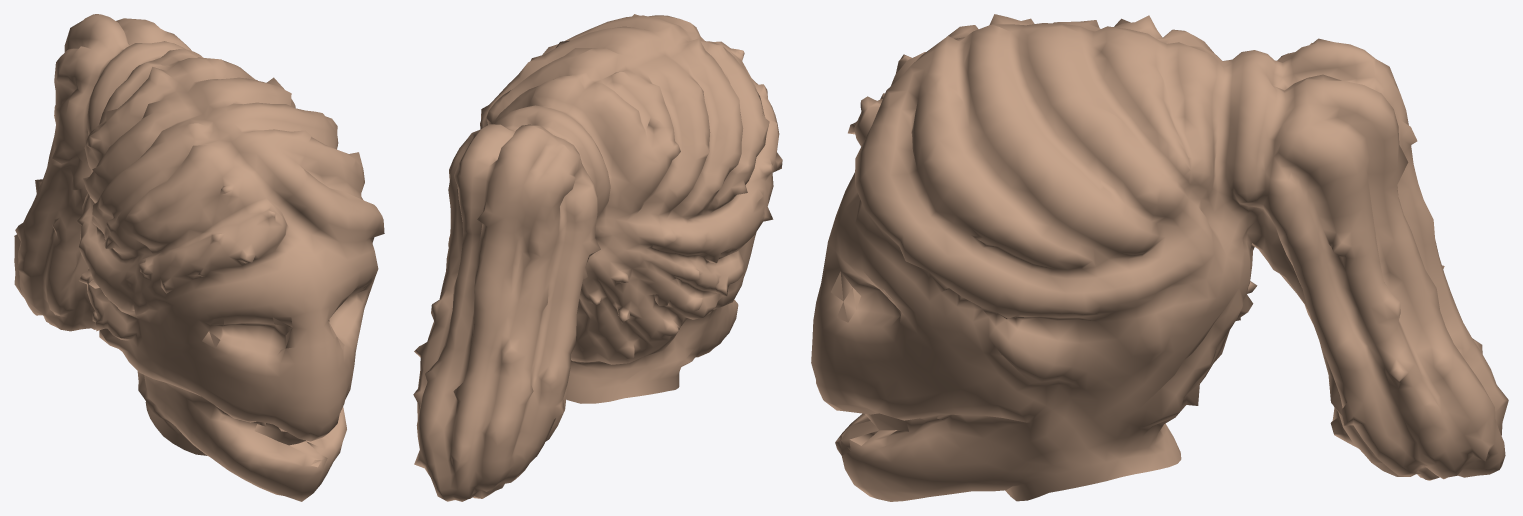
Rendered from LP tete pj.FBX.
3 renders of one model, left to right at view 1: azimuth 30°, elevation 25°; view 2: azimuth 150°, elevation 25°; view 3: azimuth 270°, elevation 25°, orthographic. The views are drawn at different scales.
Parts seen in each view (by area): view 1: LP; view 2: LP; view 3: LP.
Boxes of the visible parts, x1,y1,x2,y2 form: LP: (14,14,384,501); LP: (413,14,782,501); LP: (811,14,1508,501).
Size of the model in its own units: 18.17 by 25.79 by 35.05.
